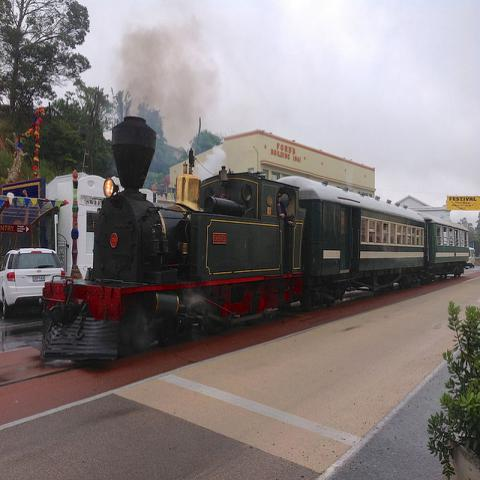car: (0, 248, 66, 319)
truck: (466, 247, 475, 268)
